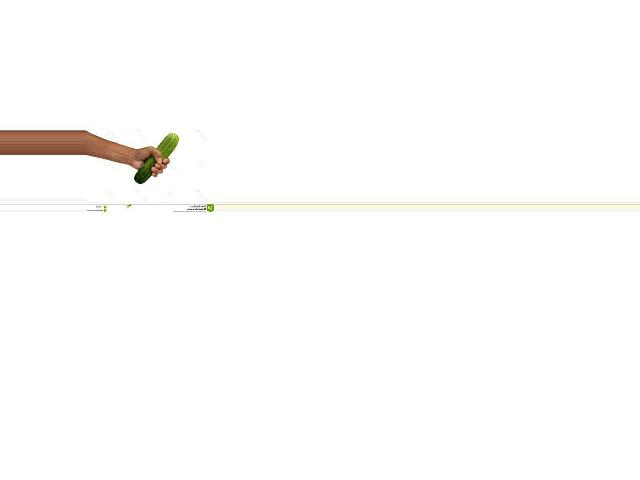cucumber: (132, 133, 178, 184)
